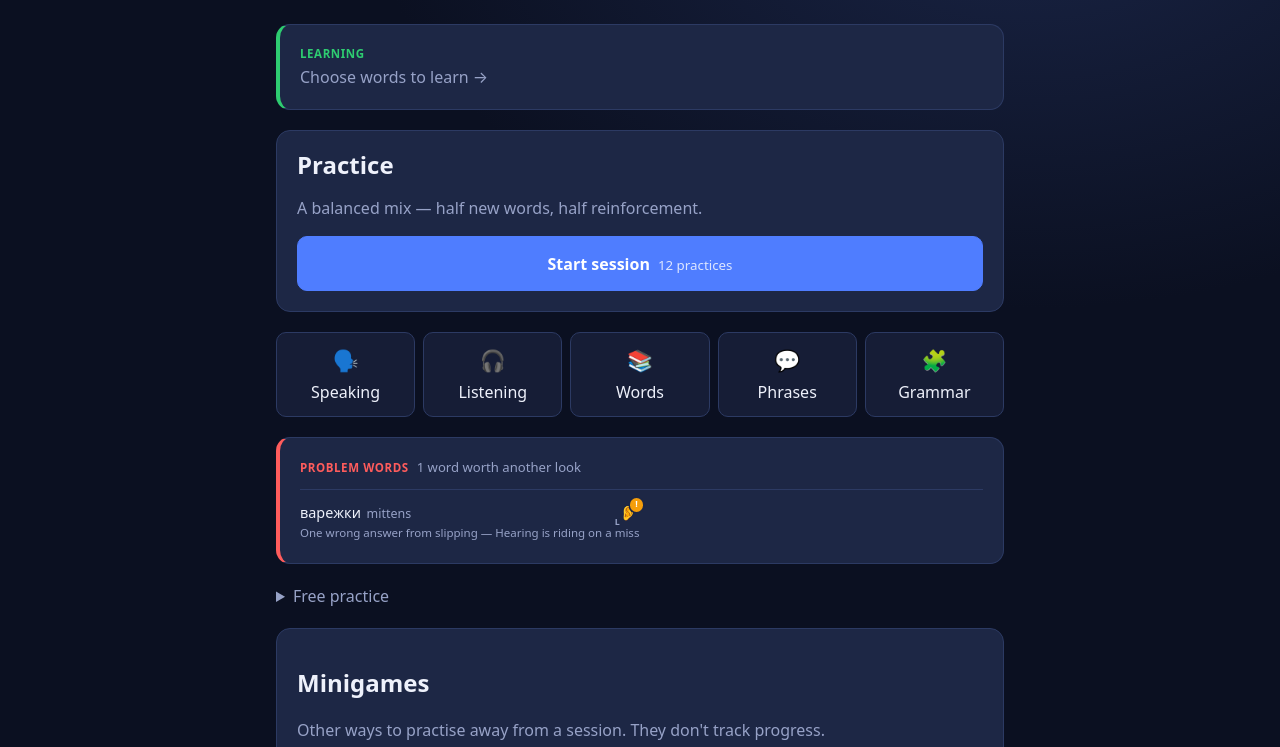
it: HomeView › shows only hearing as the problem after a mastered word misses one listening answer
This screenshot has width=1280, height=747.
Expected: the text with class "row-plan" shows "Hearing is riding on a miss", [300,525,639,540]
Expected: the text with class "dim-level" reads "L", [615,516,620,528]
Click the button with class "word-row". click: x=330, y=513
box: [300,498,643,540]
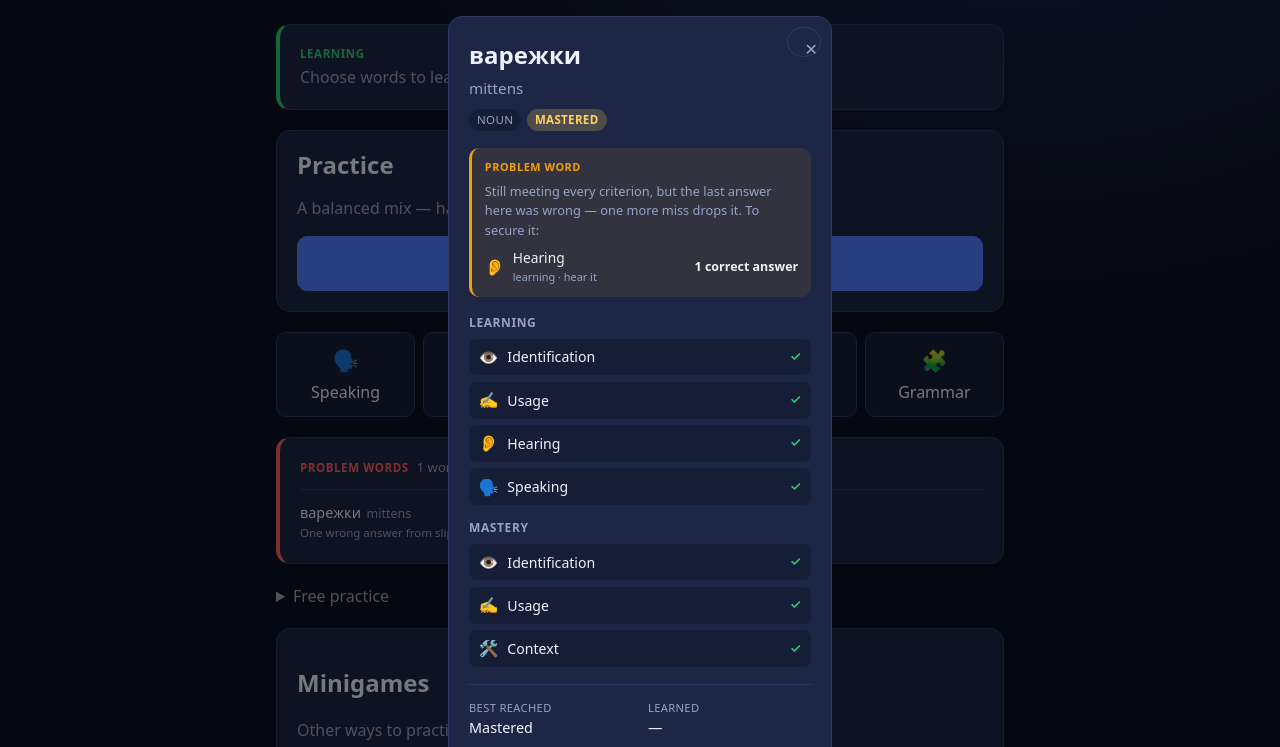
Now the number of list items with class "recovery-step" is 1, box [485,248,798,286]
Now the list item with class "recovery-step" shows "Hearing", box [513,248,565,268]
